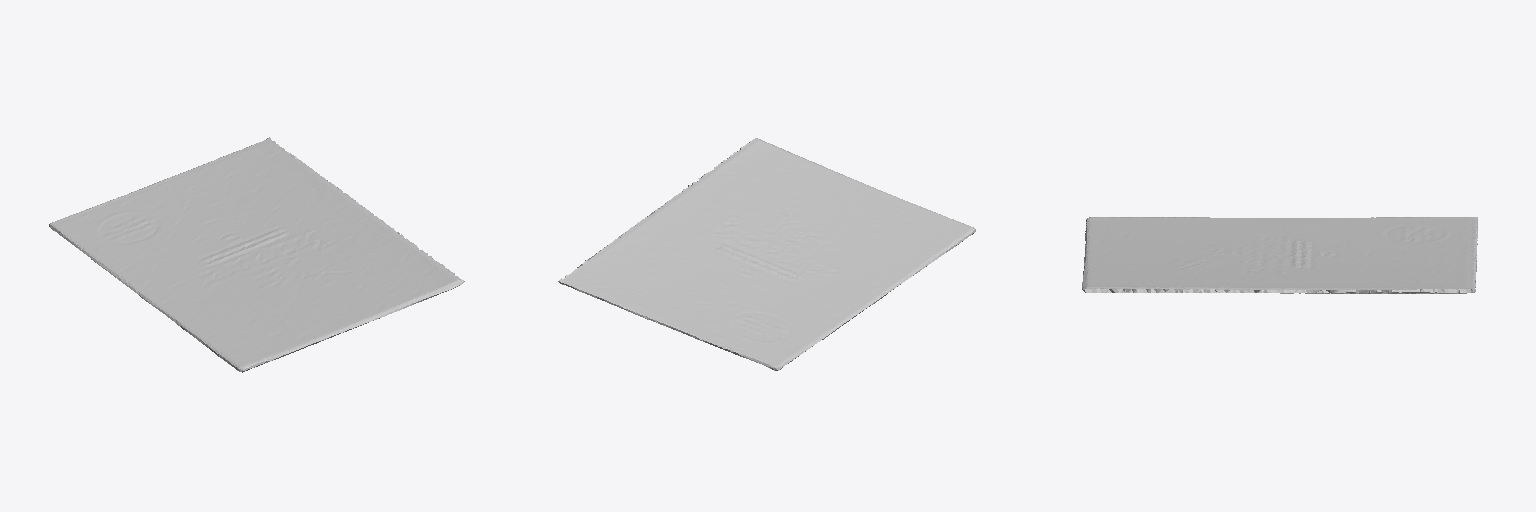
The model's file is top.obj.
3 renders of one model, left to right at view 1: azimuth 30°, elevation 25°; view 2: azimuth 150°, elevation 25°; view 3: azimuth 270°, elevation 25°, orthographic.
Size of the model in its own units: 153 by 27.26 by 234.